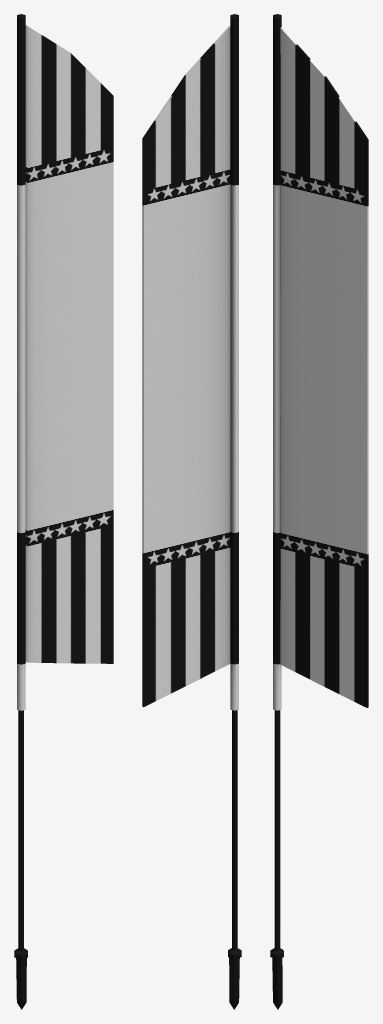
Rendered from Flag_03_1.fbx.
3 renders of one model, left to right at view 1: azimuth 30°, elevation 25°; view 2: azimuth 210°, elevation 25°; view 3: azimuth 330°, elevation 25°, orthographic.
Parts seen in each view (by area): view 1: Flag_03_1; view 2: Flag_03_1; view 3: Flag_03_1.
Part boxes in pixels (x1,y1,x2,y2): Flag_03_1: [14, 14, 113, 1009]; Flag_03_1: [142, 14, 241, 1009]; Flag_03_1: [270, 14, 368, 1009].
Bounding box in the file's own units: 0.0226 × 0.2186 × 0.00273.
